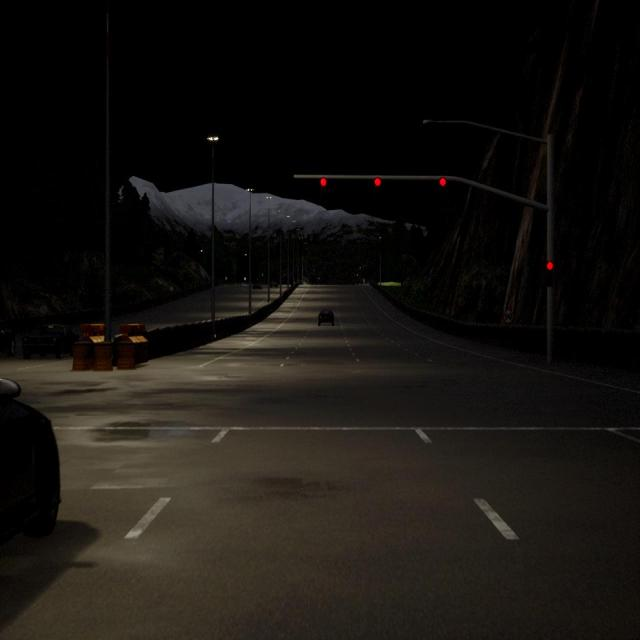Traffic_Signs: (503, 309, 514, 323), (40, 305, 46, 313), (170, 286, 173, 291)
Vehicle: (0, 374, 61, 554), (22, 324, 75, 359), (0, 327, 15, 359), (318, 308, 334, 326), (253, 280, 262, 290), (271, 280, 278, 288)
traffic_light: (547, 260, 554, 287), (374, 176, 382, 187), (320, 177, 327, 187), (440, 176, 446, 186)
